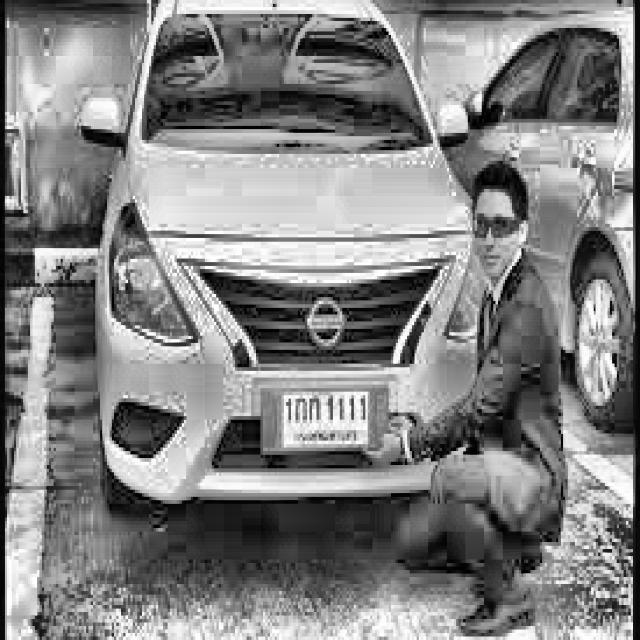license-plate: (263, 386, 386, 456)
